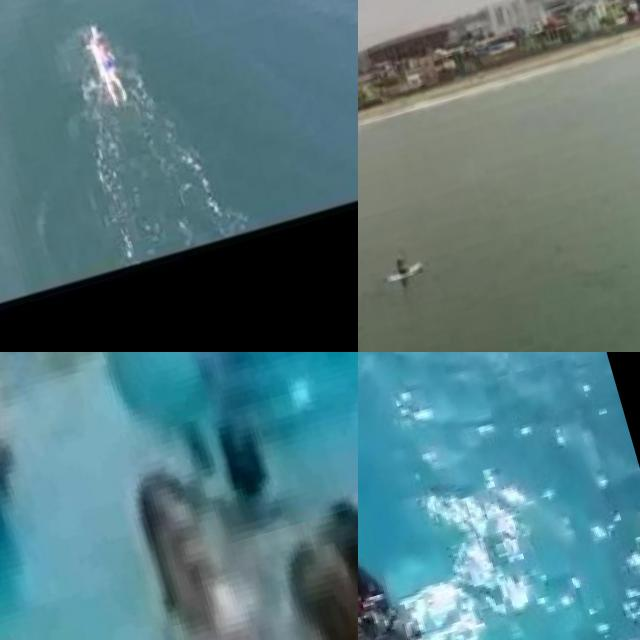drowning: (358, 486, 474, 640), (181, 390, 289, 522)
swimming: (121, 455, 245, 640), (281, 488, 358, 640), (66, 4, 130, 116)
